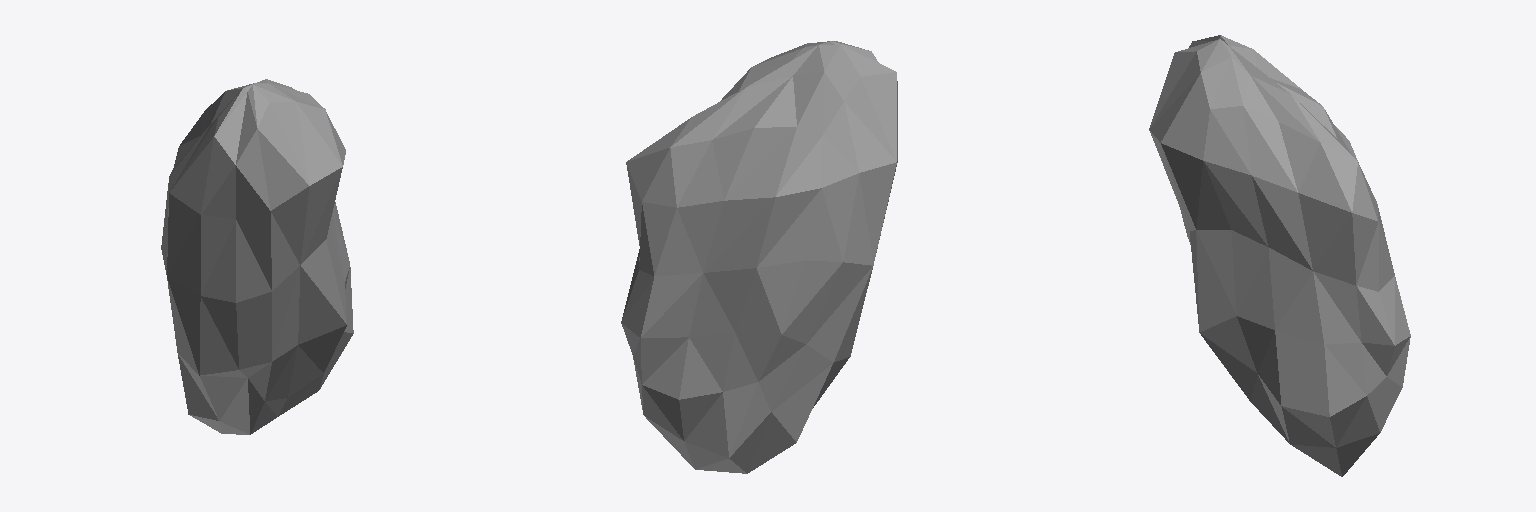
The model's file is asteroid.obj.
3 renders of one model, left to right at view 1: azimuth 30°, elevation 25°; view 2: azimuth 150°, elevation 25°; view 3: azimuth 270°, elevation 25°, orthographic.
Parts seen in each view (by area): view 1: Cube; view 2: Cube; view 3: Cube.
Part boxes in pixels (left/top/right/bottom): Cube: left=161, top=79, right=353, bottom=434; Cube: left=621, top=41, right=897, bottom=473; Cube: left=1149, top=35, right=1410, bottom=476.
Bounding box in the file's own units: 1.87 × 3.32 × 1.96.